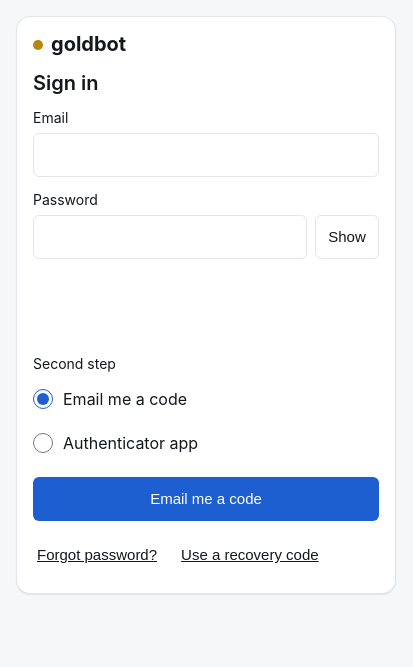
Test case: Login with an emailed code › asking for a code when the server fails says so in plain words and offers the authenticator
Expected: the radio button labelled "Email me a code" is shown, [33,377,53,421]
Type "owner@example.com" into the field labelled "Email".
click(206, 155); type("owner@example.com")  # box [33,133,379,177]
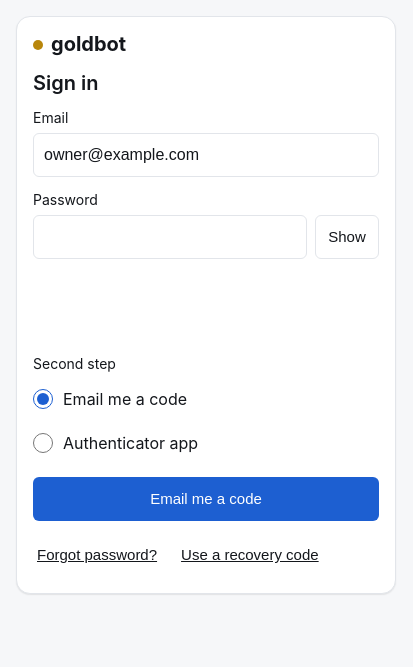
Type "owner password 123" into the password field labelled "Password".
click(170, 237); type("owner password 123")  # box [33,215,307,259]
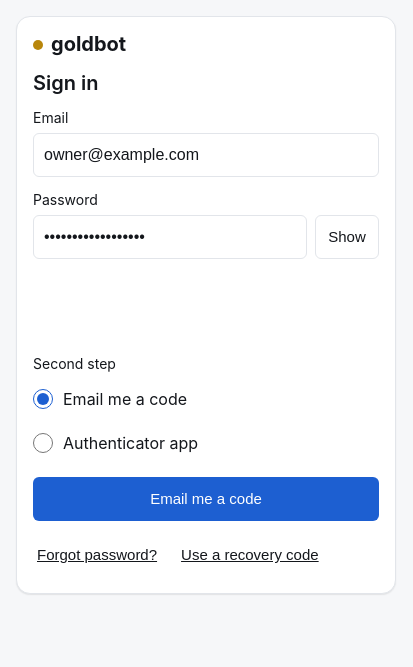
Click the button "Email me a code".
click(206, 499)  # box [33,477,379,521]
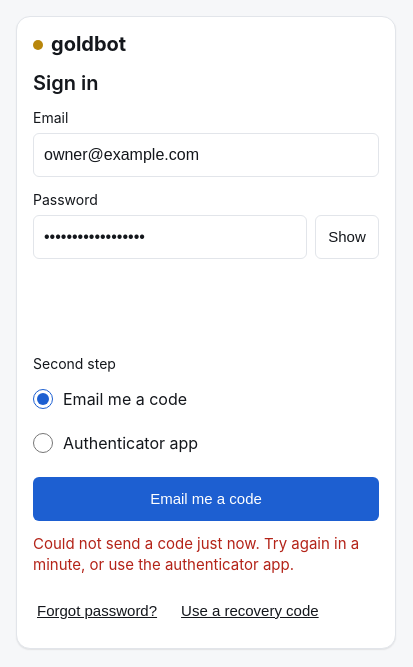
Expected: the message shows "Could not send a code just now. Try again in a minute, or use the authenticator app.", [33,534,359,574]
